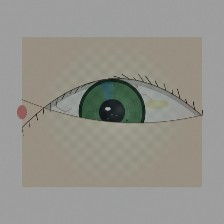pinguecula_lesion: (132, 85, 181, 124)
